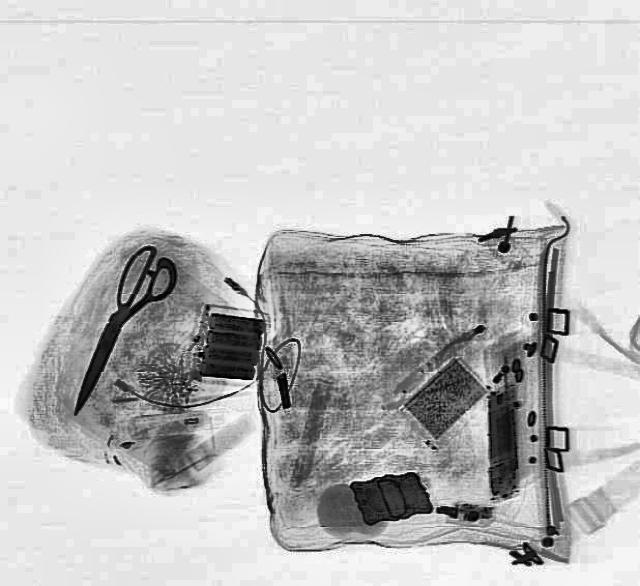Scissors: (46, 239, 188, 423)
